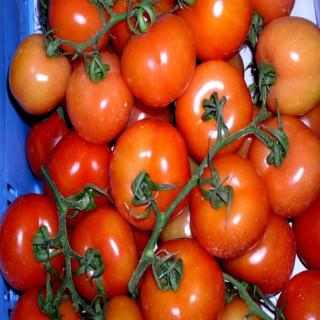tomato: (189, 137, 270, 256), (110, 116, 192, 232), (246, 99, 320, 219), (175, 62, 254, 168), (120, 0, 197, 106), (252, 14, 320, 118), (66, 204, 136, 302), (142, 238, 225, 319), (42, 133, 113, 226), (66, 52, 136, 145), (0, 193, 66, 291), (219, 213, 295, 294), (9, 33, 72, 118), (175, 0, 253, 60), (108, 0, 176, 53), (46, 0, 109, 55), (26, 107, 72, 177), (9, 276, 81, 319), (277, 272, 319, 320), (292, 202, 320, 272), (253, 0, 298, 35), (127, 95, 172, 129), (86, 296, 143, 319), (218, 298, 264, 319), (300, 106, 320, 134)
